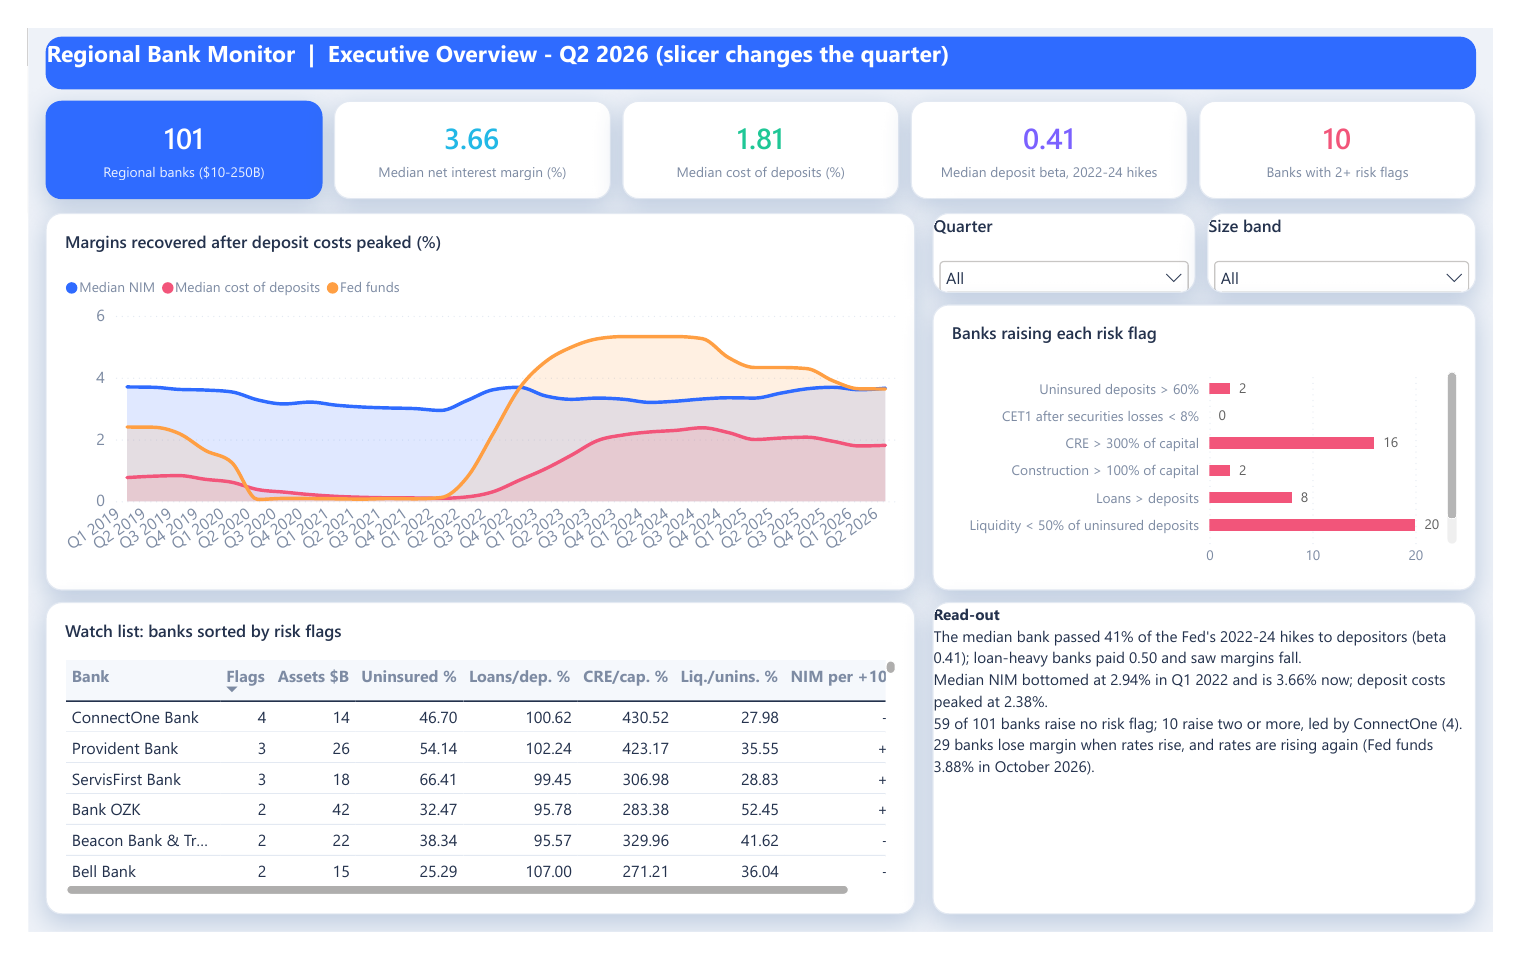

This screenshot's page, from the dashboard's own definition file:
{"tool":"powerbi","page":{"name":"Executive Overview","canvas":[1280,790],"ordinal":0},"visuals":[{"type":"textbox","box":[15,8,1250,46],"z":1000},{"type":"card","fields":{"Values":["_Measures.Banks"]},"box":[15,64,242,86],"z":2000},{"type":"card","fields":{"Values":["_Measures.Median NIM %"]},"box":[267,64,242,86],"z":3000},{"type":"card","fields":{"Values":["_Measures.Median Cost of Deposits %"]},"box":[519,64,242,86],"z":4000},{"type":"card","fields":{"Values":["_Measures.Median Deposit Beta (Hikes)"]},"box":[771,64,242,86],"z":5000},{"type":"card","fields":{"Values":["_Measures.Banks With 2+ Flags"]},"box":[1023,64,242,86],"z":6000},{"type":"areaChart","title":"Margins recovered after deposit costs peaked (%)","fields":{"Category":["Quarters.quarter"],"Y":["_Measures.Median NIM % by Quarter","_Measures.Median Cost of Deposits % by Quarter","_Measures.Fed Funds by Quarter %"]},"box":[15,162,760,330],"z":7000},{"type":"slicer","title":"Quarter","fields":{"Values":["Quarters.quarter"]},"box":[790,162,230,70],"z":8000},{"type":"slicer","title":"Size band","fields":{"Values":["Banks.size_band"]},"box":[1030,162,235,70],"z":9000},{"type":"clusteredBarChart","title":"Banks raising each risk flag","fields":{"Category":["Flags.flag"],"Y":["_Measures.Banks Raising Flag"]},"box":[790,242,475,250],"z":10000},{"type":"tableEx","title":"Watch list: banks sorted by risk flags","fields":{"Values":["Banks.bank","_Measures.Risk Flags","_Measures.Total Assets $B","_Measures.Uninsured Deposits %","_Measures.Loans / Deposits %","_Measures.CRE / Capital %","_Measures.Liquidity / Uninsured %","_Measures.NIM Change per +100bp"]},"box":[15,502,760,273],"z":11000},{"type":"textbox","box":[790,502,475,273],"z":12000}]}

Visuals, with their boxes in screenshot pixels (x1, y1, x2, y2), scaled from the page's 1280x790 canvas onto the 1522x960 screenshot:
textbox: select_region(18, 10, 1504, 66)
card - _Measures.Banks: select_region(18, 78, 306, 182)
card - _Measures.Median NIM %: select_region(317, 78, 605, 182)
card - _Measures.Median Cost of Deposits %: select_region(617, 78, 905, 182)
card - _Measures.Median Deposit Beta (Hikes): select_region(917, 78, 1205, 182)
card - _Measures.Banks With 2+ Flags: select_region(1216, 78, 1504, 182)
"Margins recovered after deposit costs peaked (%)" areaChart: select_region(18, 197, 922, 598)
"Quarter" slicer: select_region(939, 197, 1213, 282)
"Size band" slicer: select_region(1225, 197, 1504, 282)
"Banks raising each risk flag" clusteredBarChart: select_region(939, 294, 1504, 598)
"Watch list: banks sorted by risk flags" tableEx: select_region(18, 610, 922, 942)
textbox: select_region(939, 610, 1504, 942)
